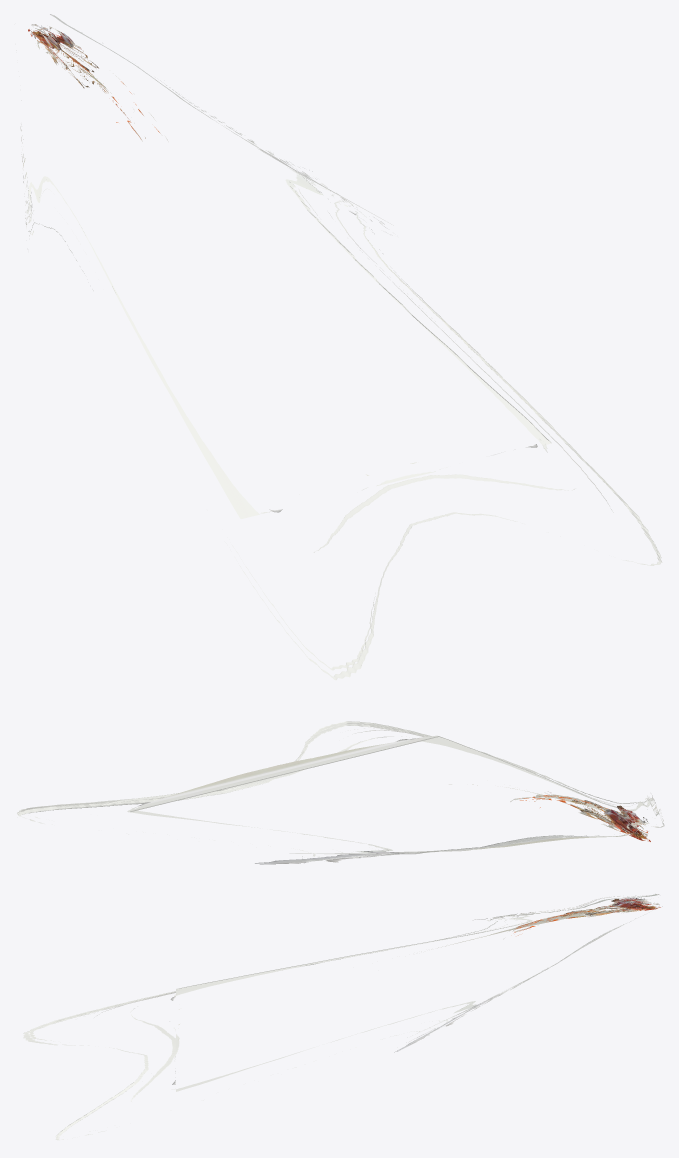
The model's file is intro-slide-2-6e60f41f19c2.glb.
The picture shows the model from 3 angles, top to bottom: view 1: azimuth 30°, elevation 25°; view 2: azimuth 210°, elevation 25°; view 3: azimuth 270°, elevation 25°; orthographic projection. The views are drawn at different scales.
Parts seen in each view (by area): view 1: mesh0; view 2: mesh0; view 3: mesh0.
Part boxes in pixels (x1=…): mesh0: x1=16, y1=14, x2=662, y2=680; mesh0: x1=17, y1=721, x2=664, y2=864; mesh0: x1=23, y1=893, x2=662, y2=1140.
Size of the model in its own units: 11.58 by 8.41 by 25.62.
Materials: 1 (1 with a texture image).
